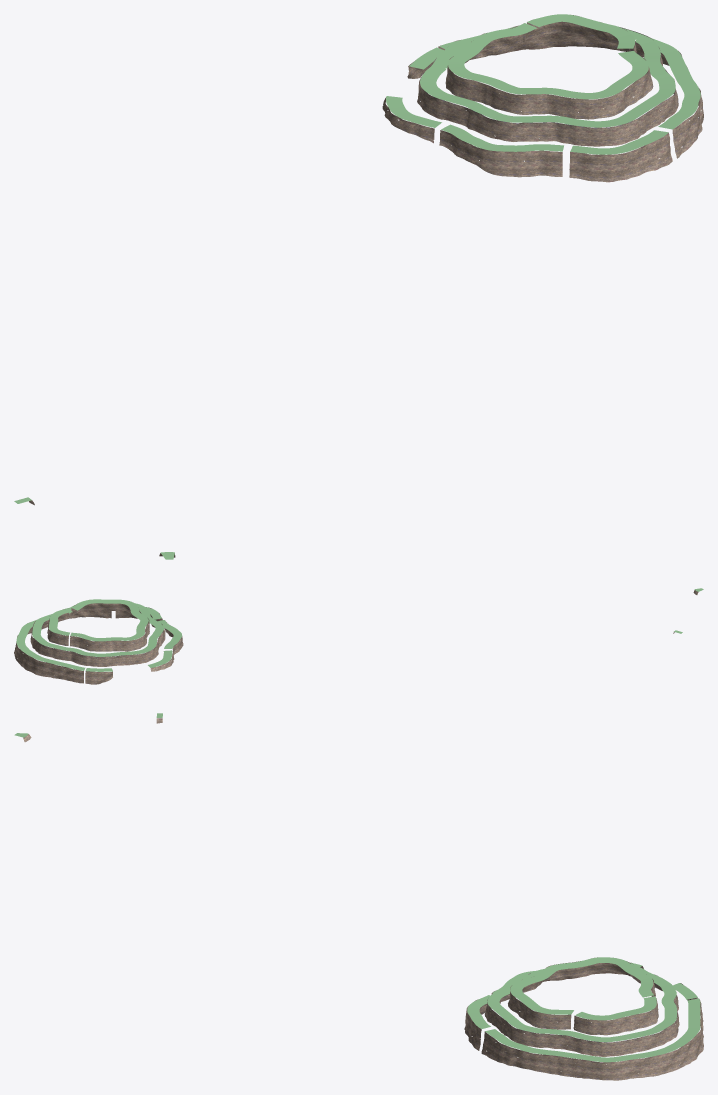
Rendered from CliffWall_plateau_southwest.glb.
3 views of the same model, one above another, from view 1: azimuth 30°, elevation 25°; view 2: azimuth 150°, elevation 25°; view 3: azimuth 270°, elevation 25° (orthographic). The views are drawn at different scales.
Visible parts, largest first — view 1: CliffWall_plateau_southwest-rock2, CliffWall_plateau_southwest-rock1, CliffWall_plateau_southwest-lip2, CliffWall_plateau_southwest-lip1, CliffWall_plateau_southwest-rock4, CliffWall_plateau_southwest-rock5, CliffWall_plateau_southwest-rock3, CliffWall_plateau_southwest-lip3, CliffWall_plateau_southwest-lip0, CliffWall_plateau_southwest-lip5, CliffWall_plateau_southwest-rock0; view 2: CliffWall_plateau_southwest-rock2, CliffWall_plateau_southwest-rock3, CliffWall_plateau_southwest-rock1, CliffWall_plateau_southwest-lip2, CliffWall_plateau_southwest-lip1, CliffWall_plateau_southwest-lip3, CliffWall_plateau_southwest-rock7, CliffWall_plateau_southwest-rock0, CliffWall_plateau_southwest-lip0, CliffWall_plateau_southwest-lip5, CliffWall_plateau_southwest-lip6; view 3: CliffWall_plateau_southwest-rock3, CliffWall_plateau_southwest-rock2, CliffWall_plateau_southwest-lip2, CliffWall_plateau_southwest-lip3, CliffWall_plateau_southwest-lip1, CliffWall_plateau_southwest-rock1, CliffWall_plateau_southwest-rock0, CliffWall_plateau_southwest-lip0.
Part boxes in pixels (x1,y1,x2,y2): CliffWall_plateau_southwest-rock2: (417,27,678,146); CliffWall_plateau_southwest-rock1: (445,23,653,119); CliffWall_plateau_southwest-lip2: (420,27,675,127); CliffWall_plateau_southwest-lip1: (448,23,648,99); CliffWall_plateau_southwest-rock4: (569,133,672,182); CliffWall_plateau_southwest-rock5: (439,130,562,177); CliffWall_plateau_southwest-rock3: (438,25,703,158); CliffWall_plateau_southwest-lip3: (439,28,700,129); CliffWall_plateau_southwest-lip0: (527,14,634,48); CliffWall_plateau_southwest-lip5: (441,124,563,151); CliffWall_plateau_southwest-rock0: (525,15,636,52); CliffWall_plateau_southwest-rock2: (30,608,165,666); CliffWall_plateau_southwest-rock3: (14,610,111,683); CliffWall_plateau_southwest-rock1: (70,603,149,651); CliffWall_plateau_southwest-lip2: (32,603,163,656); CliffWall_plateau_southwest-lip1: (70,599,148,641); CliffWall_plateau_southwest-lip3: (16,608,85,670); CliffWall_plateau_southwest-rock7: (85,671,112,684); CliffWall_plateau_southwest-rock0: (47,612,68,645); CliffWall_plateau_southwest-lip0: (49,608,72,635); CliffWall_plateau_southwest-lip5: (158,620,182,648); CliffWall_plateau_southwest-lip6: (148,650,172,667); CliffWall_plateau_southwest-rock3: (481,999,703,1080); CliffWall_plateau_southwest-rock2: (484,963,679,1056); CliffWall_plateau_southwest-lip2: (487,963,676,1042); CliffWall_plateau_southwest-lip3: (485,998,700,1062); CliffWall_plateau_southwest-lip1: (510,957,653,1014); CliffWall_plateau_southwest-rock1: (508,957,655,1029); CliffWall_plateau_southwest-rock0: (573,998,658,1035); CliffWall_plateau_southwest-lip0: (575,996,656,1020).
Bounding box in the file's own units: 2489 × 148 × 2072.
4 materials, 1 textured.
